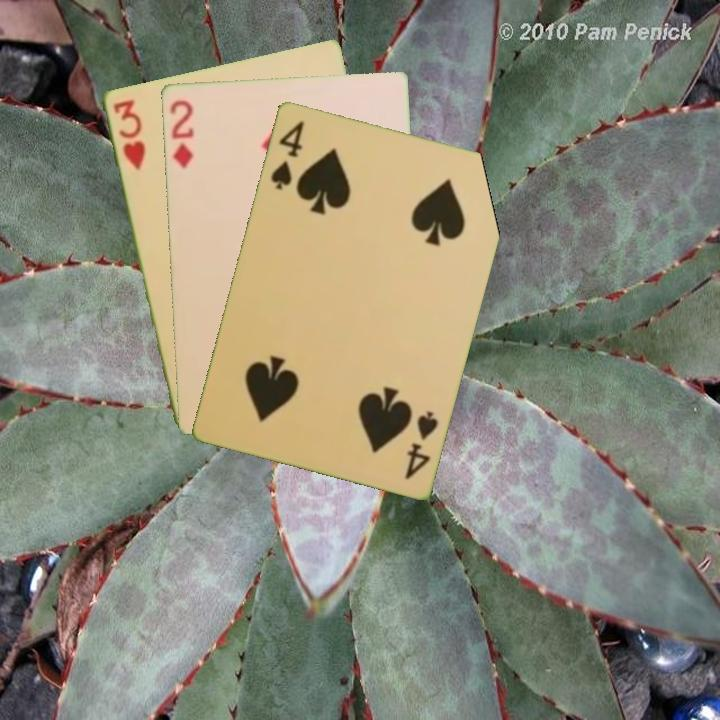2d: (166, 96, 197, 171)
3h: (109, 95, 148, 173)
4s: (267, 117, 307, 193), (401, 407, 441, 482)
